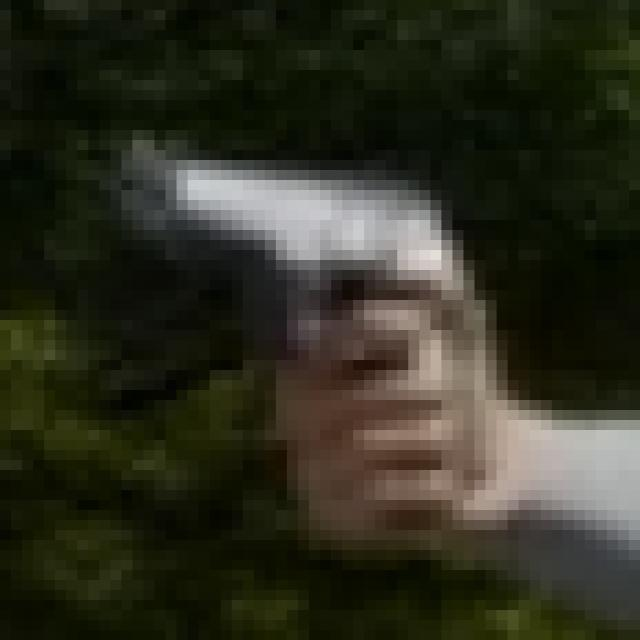FPistol: (119, 111, 515, 516)
